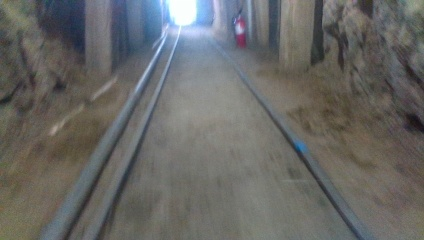fire_extinguisher: (231, 7, 247, 47)
